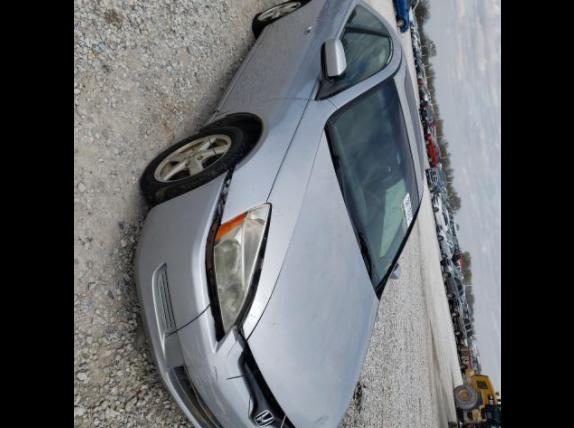Broken part: (230, 199, 298, 428), (197, 165, 236, 352)
Corrosion: (190, 409, 214, 428)
Dent: (307, 419, 329, 428), (293, 419, 307, 428)
Flaking: (184, 346, 235, 428)
Scratch: (212, 365, 218, 381)
